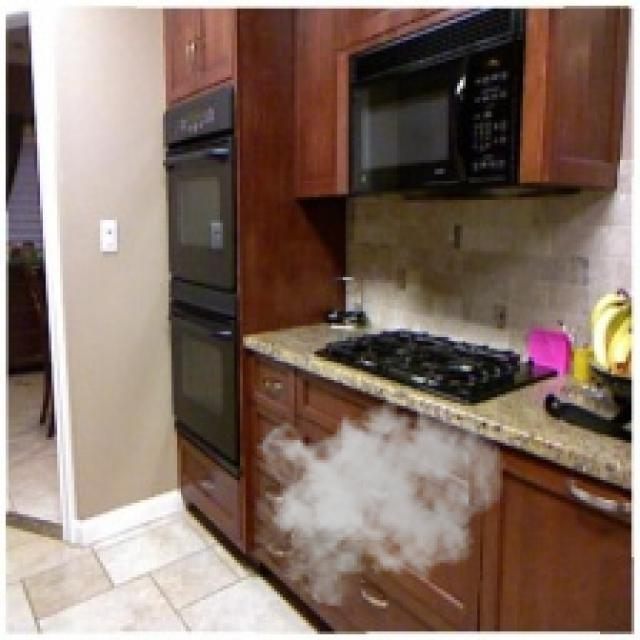Smoke: (254, 383, 506, 606)
